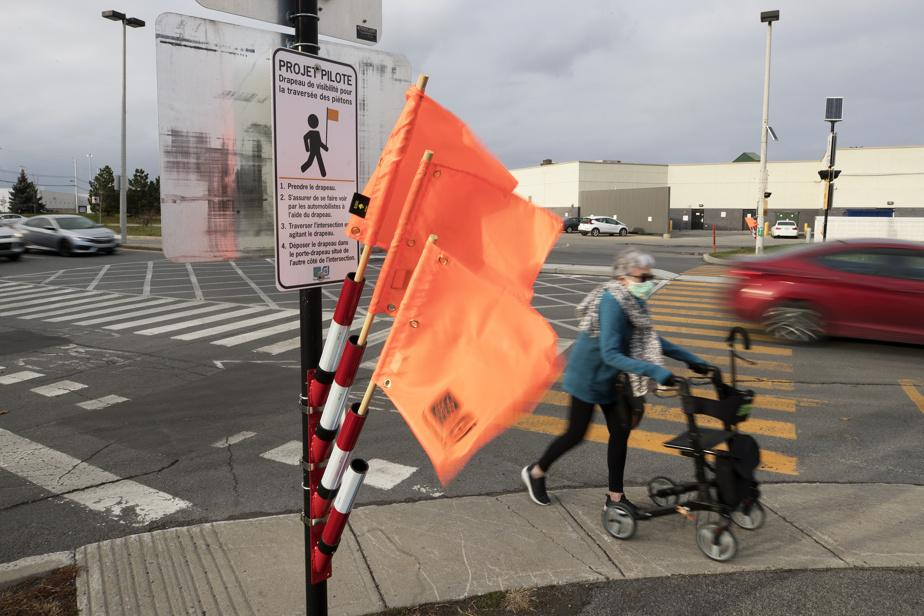walking_frame: (521, 249, 767, 562)
